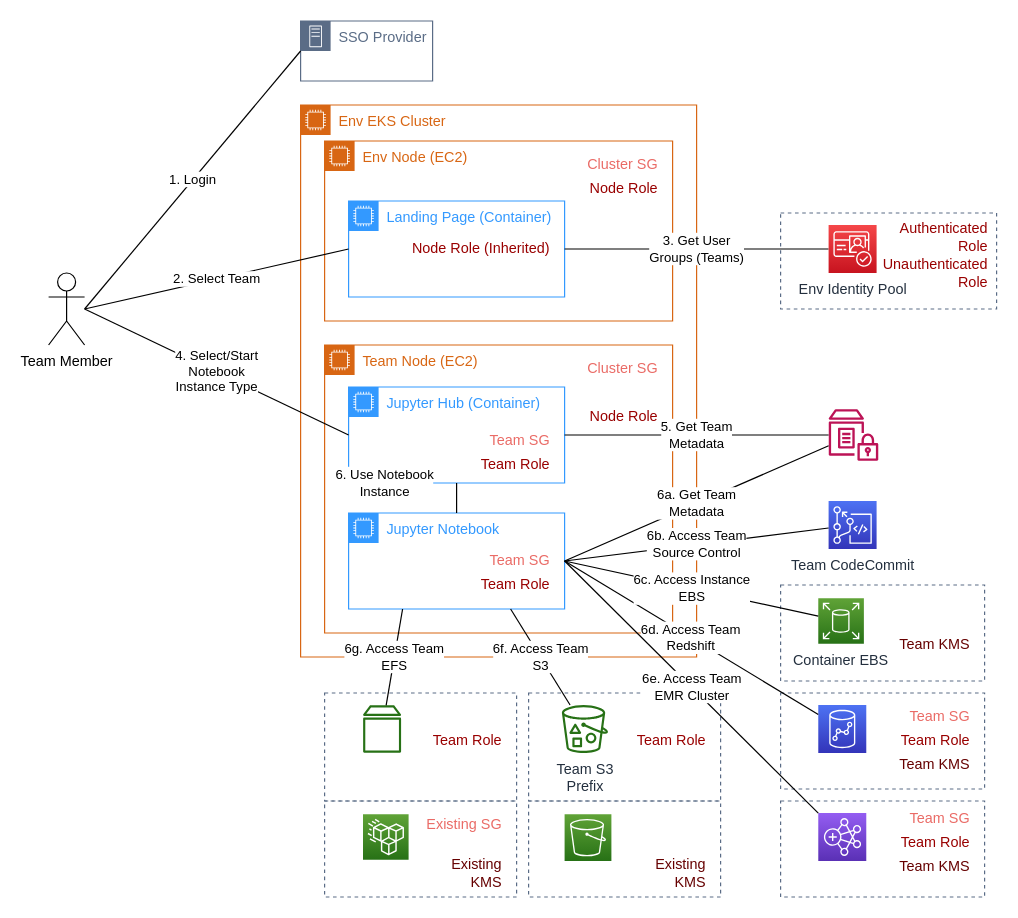
The diagram is 1018 pixels wide and 918 high, and some of its shapes have lost their labels. The centre of each missing label's shape, as x and y in pixels:
Existing Bucket: [587,837]
Existing EFS: [385,836]
Team EFS Access Point: [381,728]
Team EMR: [841,836]
Team Parameter Store: [853,434]
Team Redshift: [841,728]
